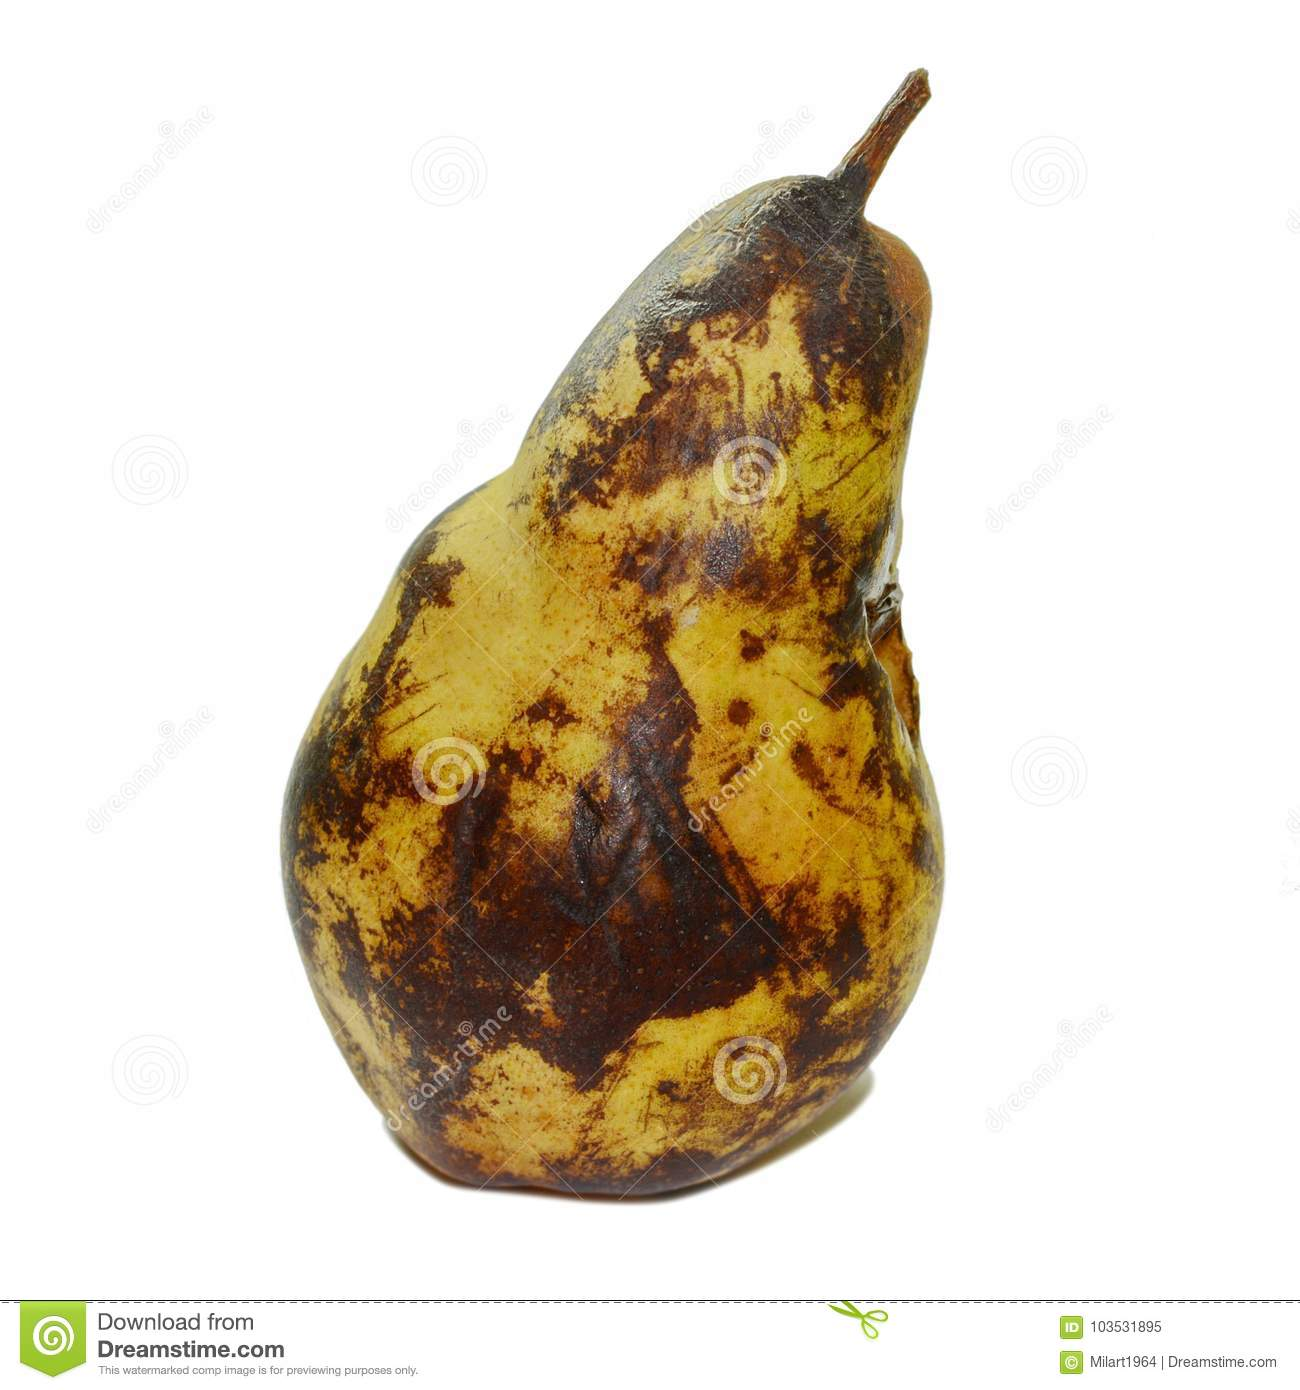damaged_pear: (280, 180, 911, 1204)
